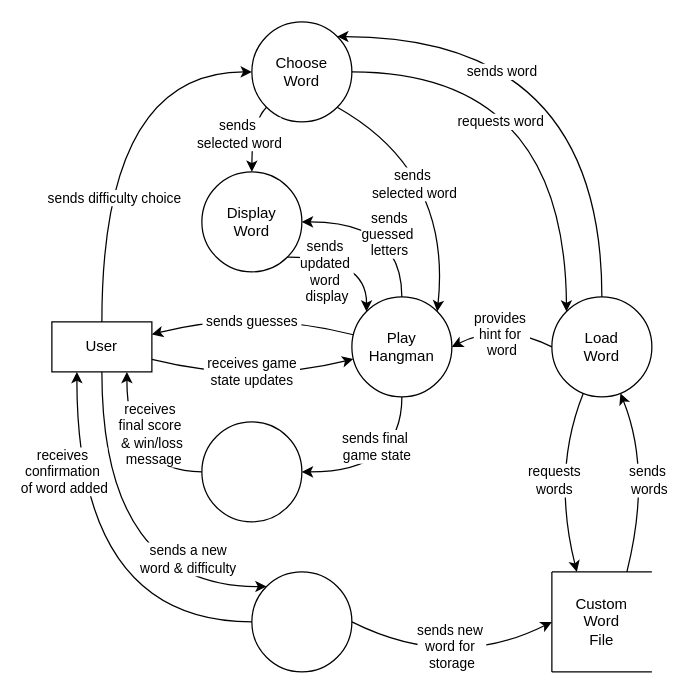
The diagram is 693 pixels wide and 695 high, and some of its shapes have lost their labels. Each missing label, with the centre of its shape:
"Add Custom Word" goes at [301,621].
"Game Result" goes at [251,471].
